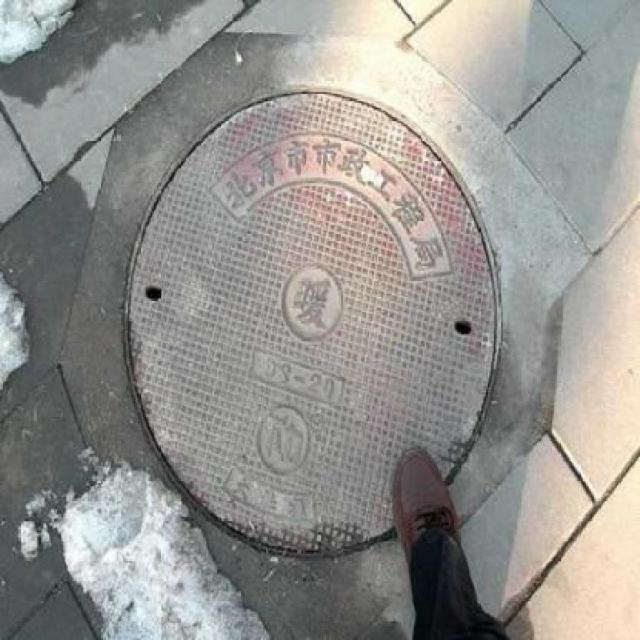Manhole: (106, 70, 522, 566)
